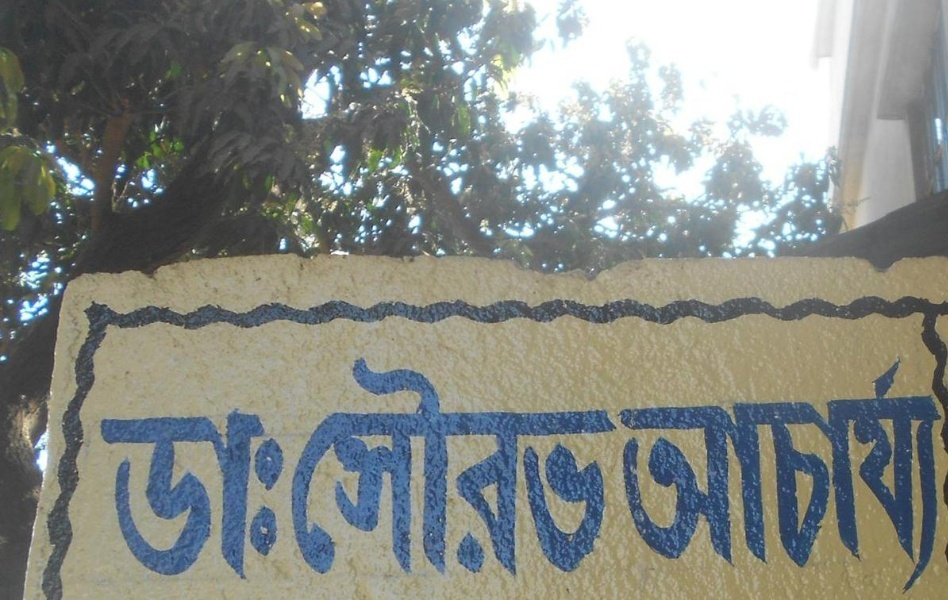text: (625, 353, 640, 594), (641, 353, 656, 594), (657, 353, 672, 594), (673, 353, 688, 594), (689, 353, 704, 594), (705, 353, 720, 594), (721, 353, 736, 594), (737, 353, 752, 594), (753, 353, 768, 594), (769, 353, 784, 594), (785, 353, 800, 594), (801, 353, 816, 594), (817, 353, 832, 594), (833, 353, 848, 594), (849, 353, 864, 594), (865, 353, 880, 594), (881, 353, 896, 594), (897, 353, 912, 594), (913, 353, 928, 594), (289, 356, 304, 583), (305, 356, 320, 583), (321, 356, 336, 583), (337, 356, 352, 583), (353, 356, 368, 583), (369, 356, 384, 583), (385, 356, 400, 583), (401, 356, 416, 583), (417, 356, 432, 583), (433, 356, 448, 583), (449, 356, 464, 583), (465, 356, 480, 583), (481, 356, 496, 583), (497, 356, 512, 583), (513, 356, 528, 583), (529, 356, 544, 583), (545, 356, 560, 583), (561, 356, 576, 583), (577, 356, 592, 583), (593, 356, 608, 583), (929, 353, 943, 594), (97, 408, 112, 582), (113, 408, 128, 582), (129, 408, 144, 582), (145, 408, 160, 582), (161, 408, 176, 582), (177, 408, 192, 582), (193, 408, 208, 582), (209, 408, 224, 582), (225, 408, 240, 582), (241, 408, 256, 582), (257, 408, 272, 582), (273, 408, 285, 582), (609, 356, 617, 583), (617, 353, 624, 594), (94, 408, 96, 582)
